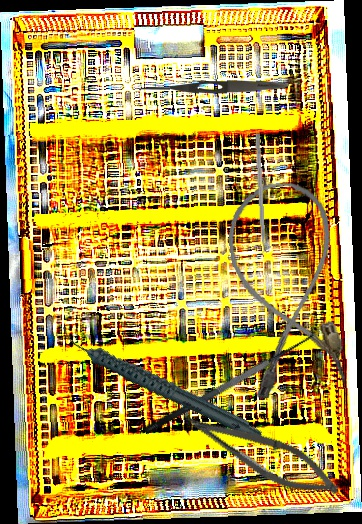Cannula: (221, 176, 352, 401)
Chopper: (248, 132, 267, 261)
Dressing Forceps: (136, 78, 290, 97)
Handpiece: (57, 290, 264, 477)
Micro Scissor: (177, 405, 347, 507)
Spatula Surgical: (135, 320, 321, 437)
